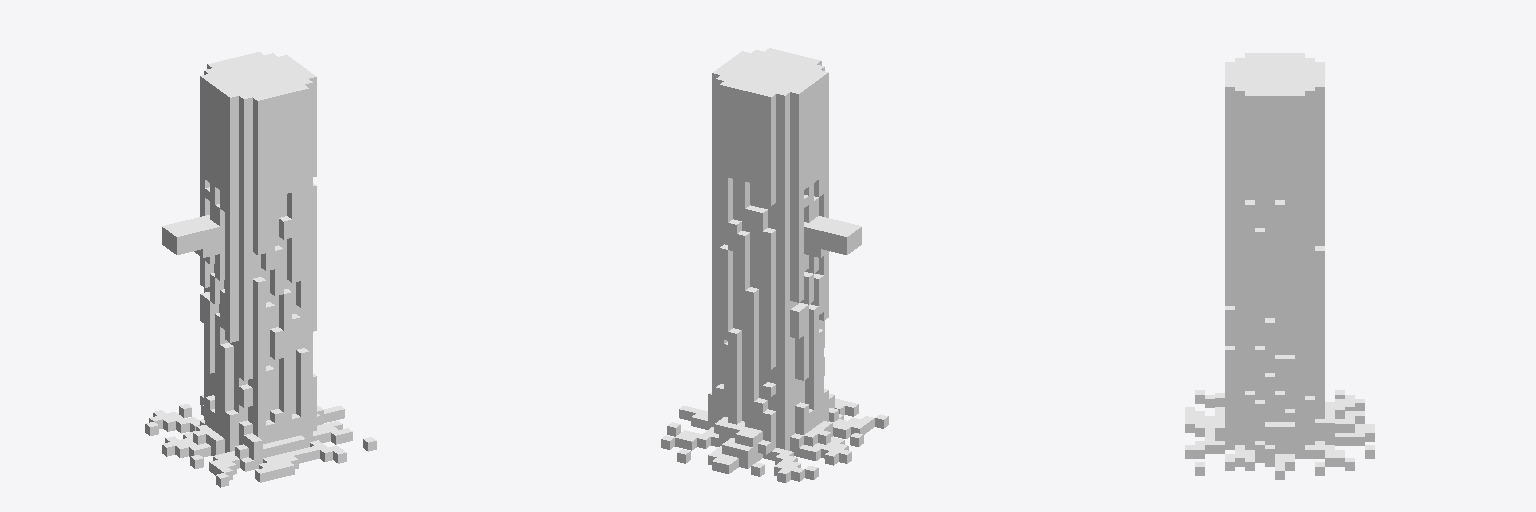
The model's file is tree2-0.obj.
The picture shows the model from 3 angles: view 1: azimuth 30°, elevation 25°; view 2: azimuth 150°, elevation 25°; view 3: azimuth 270°, elevation 25°; orthographic projection.
Parts seen in each view (by area): view 1: object 1; view 2: object 1; view 3: object 1.
Part boxes in pixels (x1,y1,x2,y2): object 1: (145, 52, 376, 487); object 1: (661, 48, 888, 482); object 1: (1185, 53, 1374, 479).
Bounding box in the file's own units: 2 × 4 × 1.9.